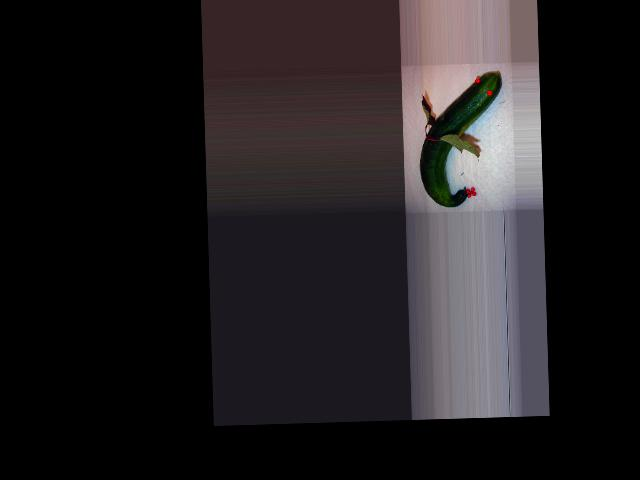cucumber: (417, 72, 505, 208)
